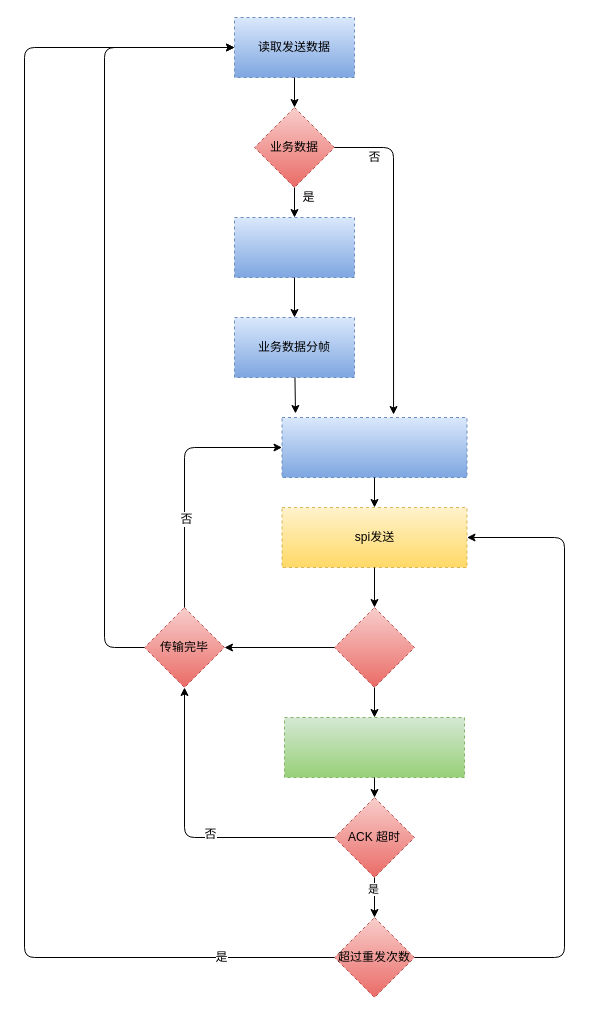
This 590x1015 diagram has some shape labels left out. Here are the shapes that lost their labels. From the top down, the centre of each, then its label:
the point at 294,247: 业务协议包封装
the point at 374,447: 传输层协议包封装
the point at 374,647: 是否需要回执
the point at 374,747: 等待ACK
